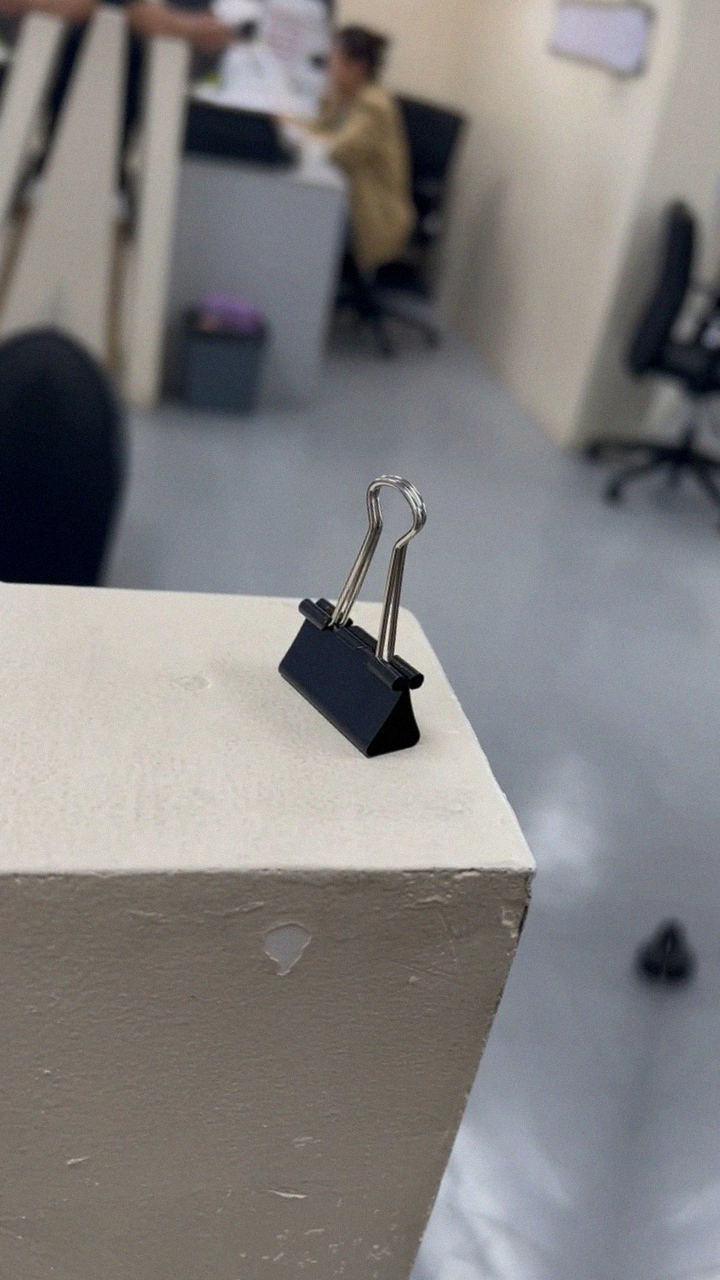kep_giay: (252, 456, 474, 772)
